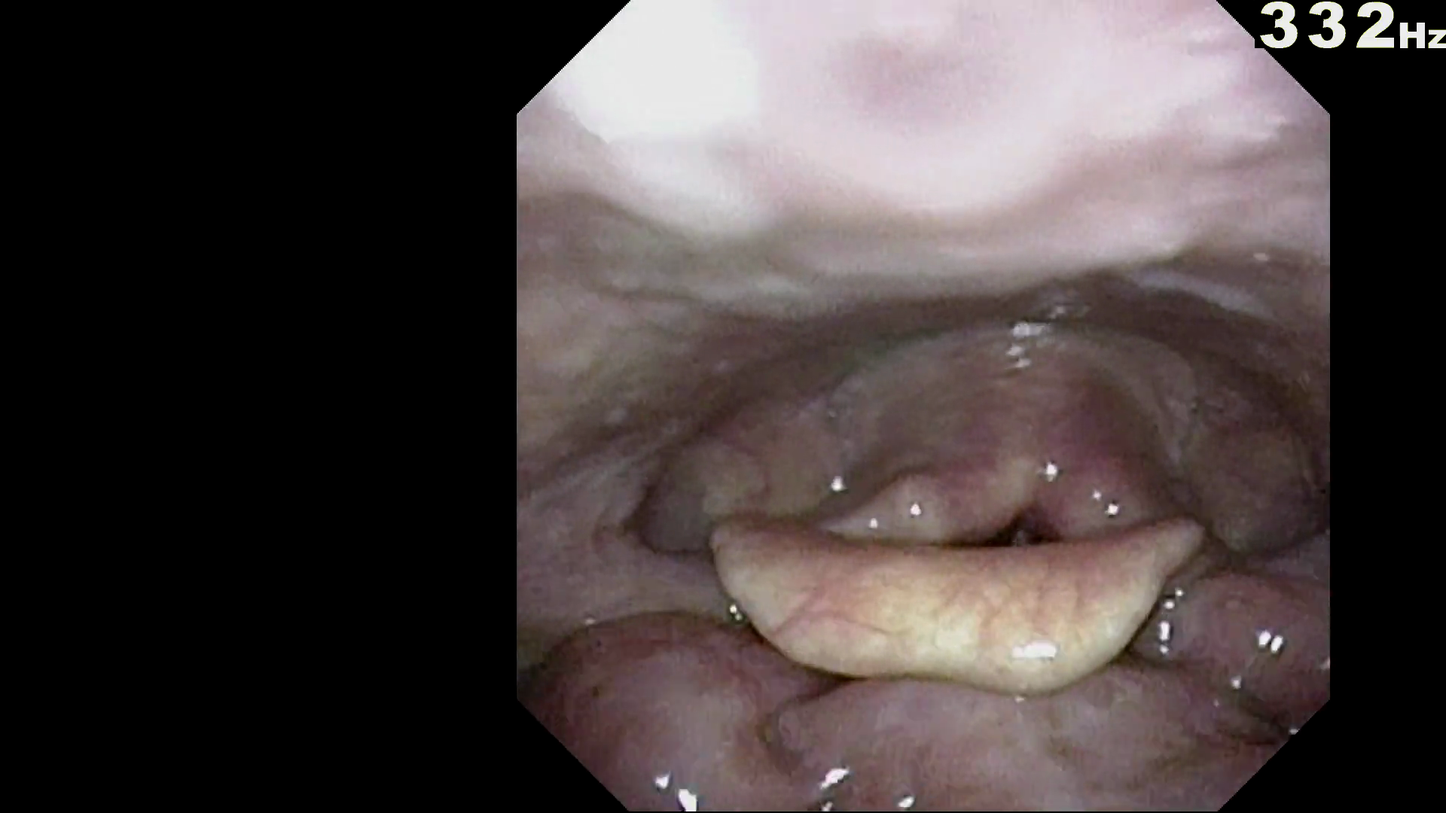epiglottis: (707, 518, 1248, 672)
trachea: (962, 473, 1080, 571)
